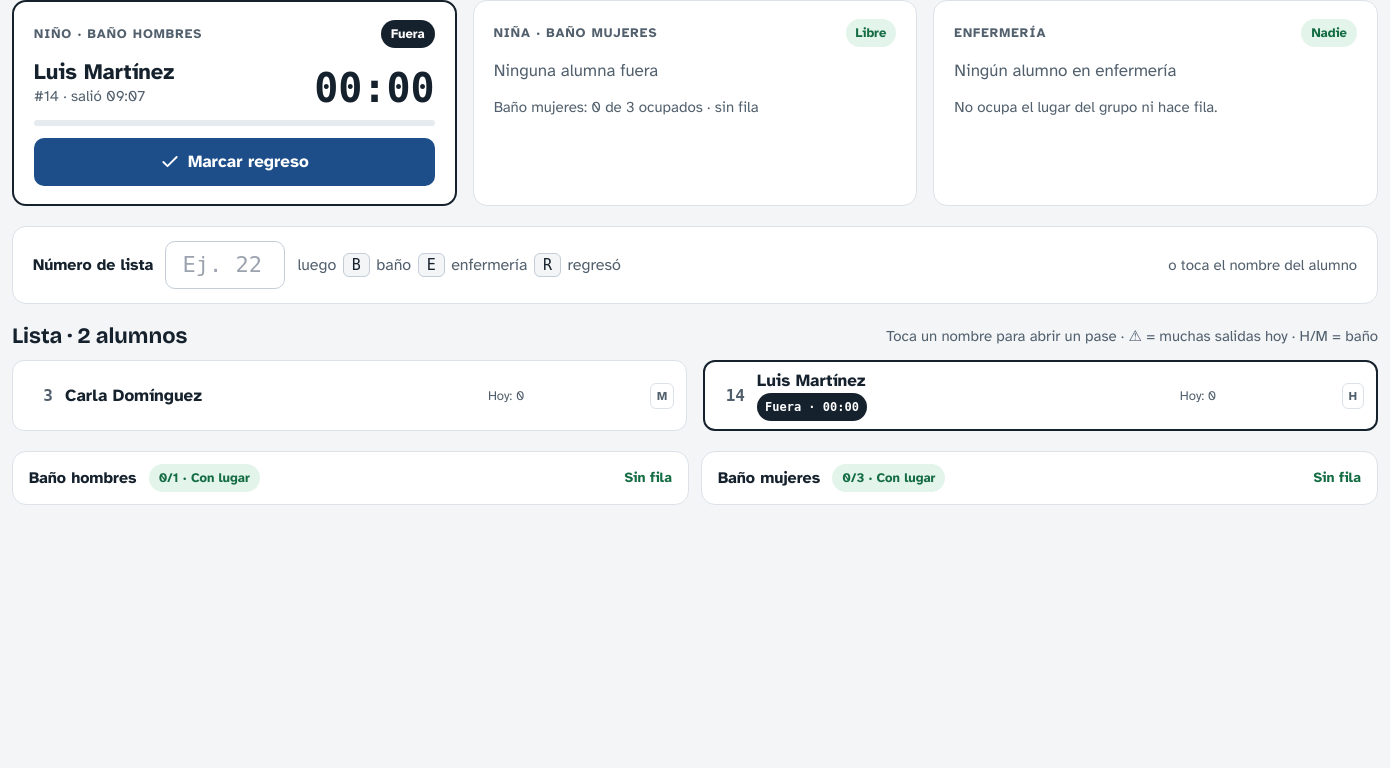
captura rápida › número + B abre pase de baño y ofrece deshacer
The width and height of the screenshot is (1390, 768).
Type "3" into the field labelled "Número de lista".
click(226, 265); type("3")  # box x1=166 y1=241 x2=286 y2=289
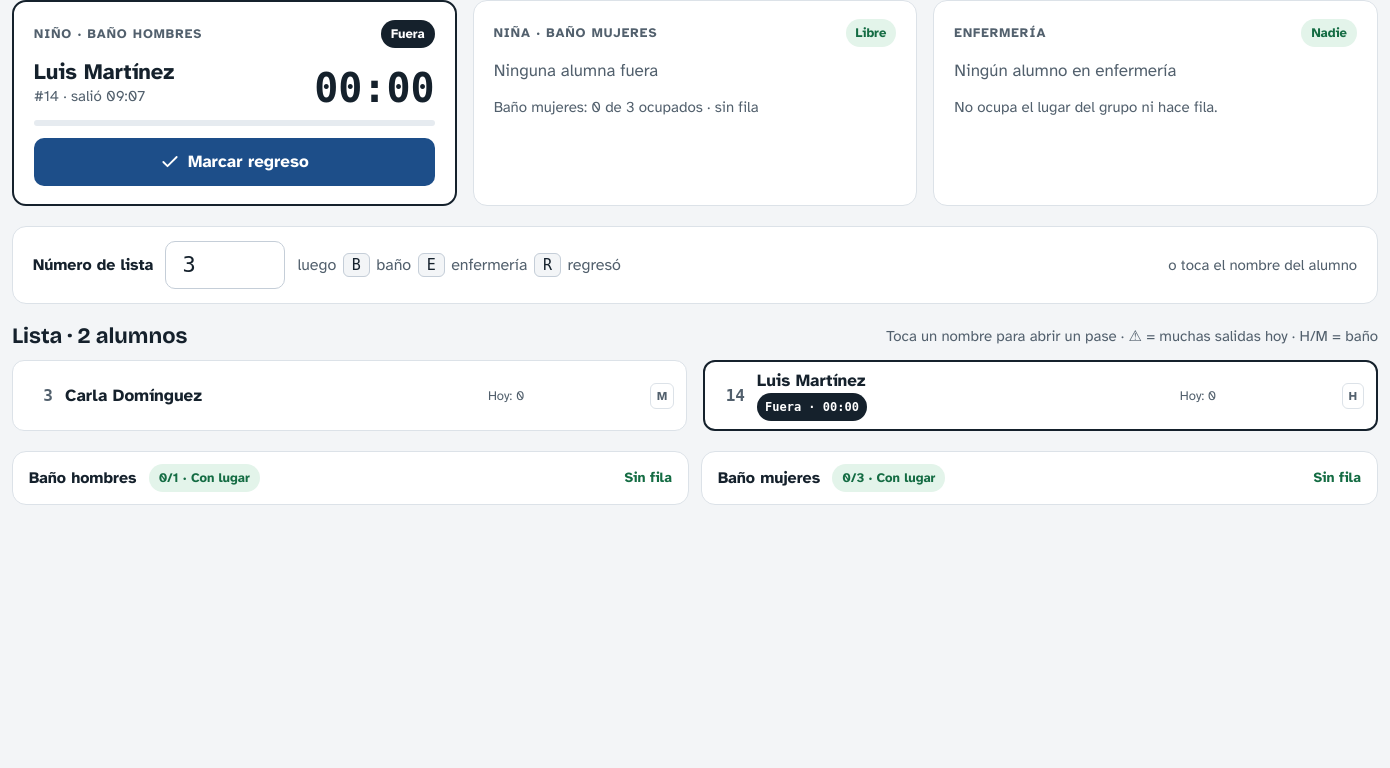
Press b in the field labelled "Número de lista", box x1=166 y1=241 x2=286 y2=289
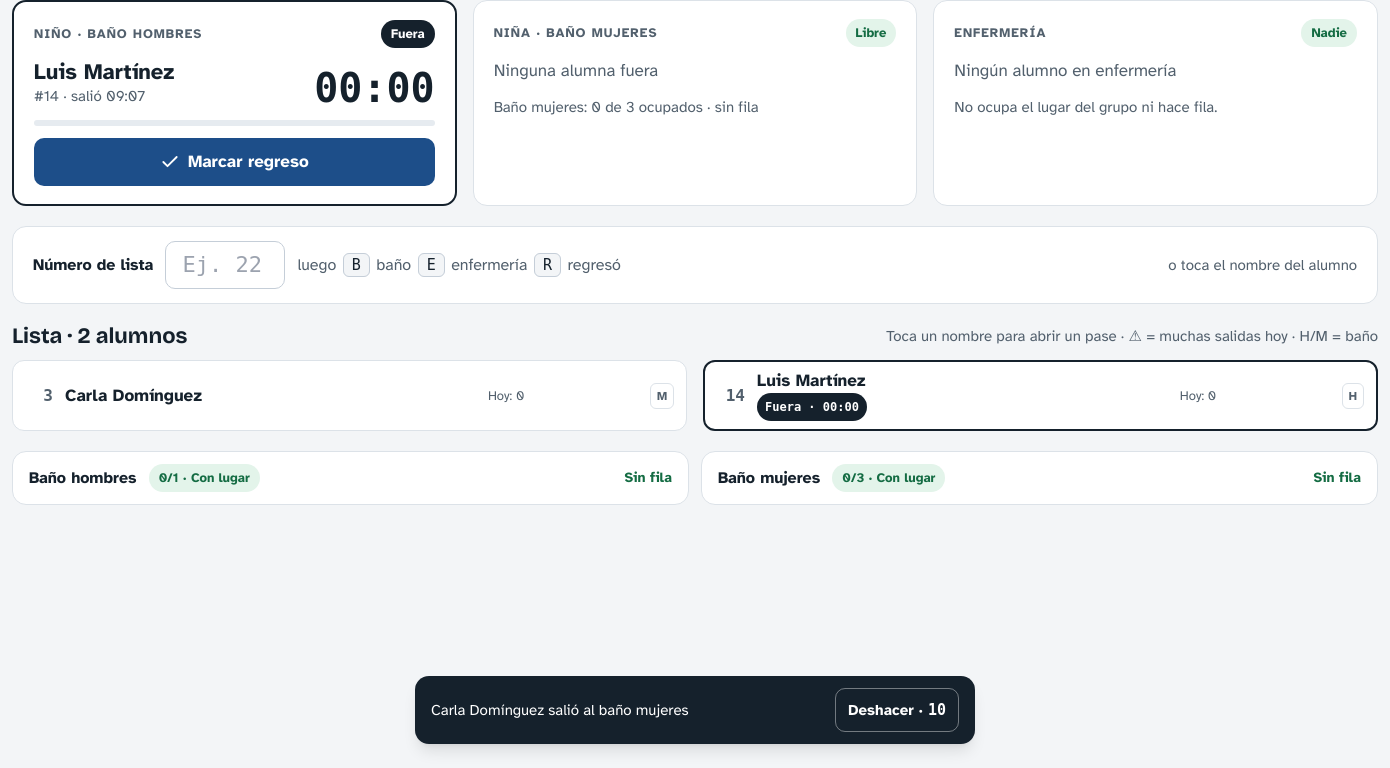
Now the text "Carla Domínguez salió al baño mujeres" is shown, box x1=431 y1=701 x2=688 y2=719
Now the button "Deshacer · 10" is shown, box x1=835 y1=688 x2=959 y2=732
